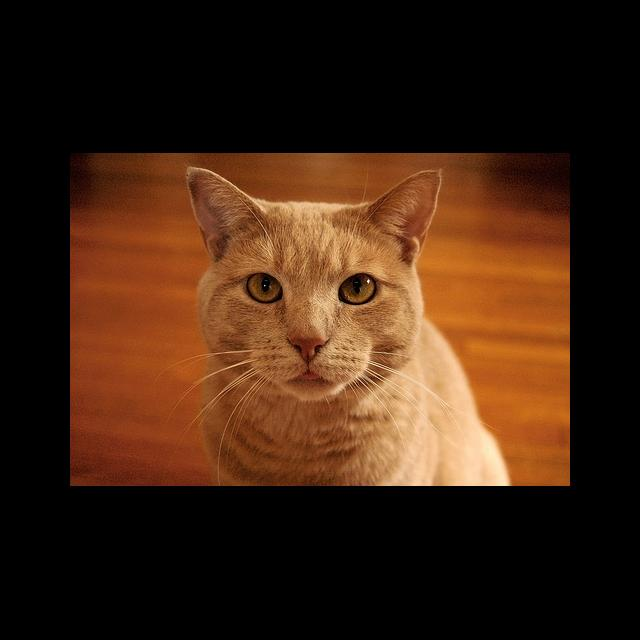animals: (190, 168, 436, 360)
